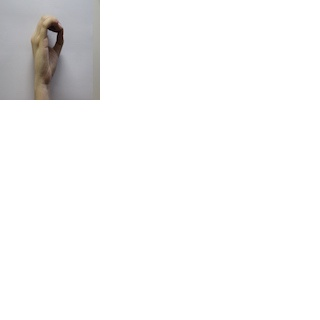rock: (29, 12, 66, 80)
